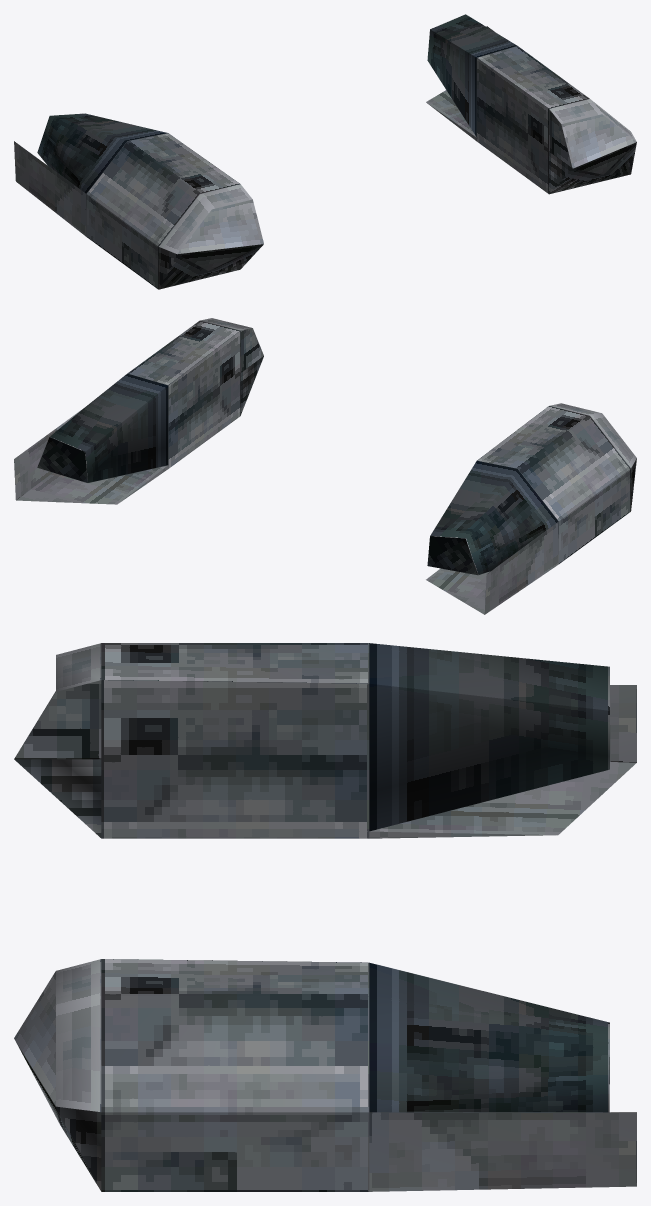
The model's file is vt49_booster_s01_l3.fbx.
3 renders of one model, top to bottom at view 1: azimuth 30°, elevation 25°; view 2: azimuth 150°, elevation 25°; view 3: azimuth 270°, elevation 25°, orthographic. The views are drawn at different scales.
Visible parts, largest first — view 1: mesh_node; view 2: mesh_node; view 3: mesh_node.
Boxes of the visible parts, <box> form: mesh_node: <box>14,14,636,289</box>; mesh_node: <box>14,318,636,614</box>; mesh_node: <box>14,643,636,1191</box>.
Size of the model in its own units: 17.41 by 3.02 by 10.73.
1 material, 1 textured.
